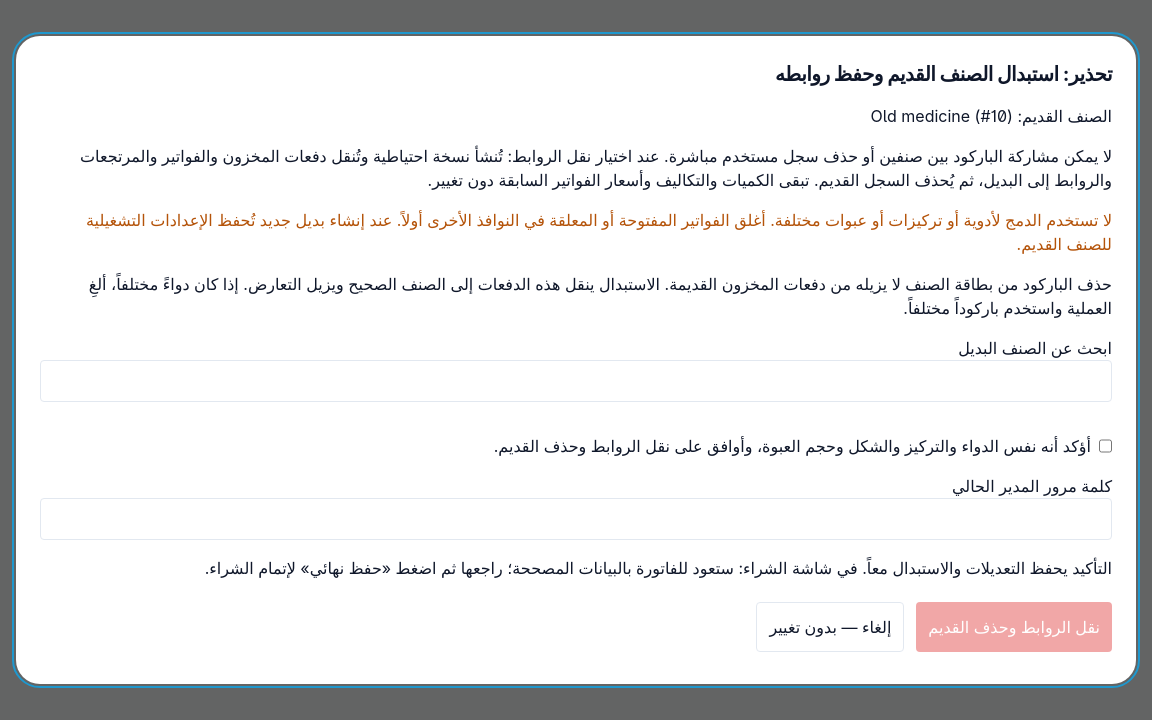
Test: clears stale replacement suggestions and reports a thrown replacement search
This screenshot has width=1152, height=720.
Type "Can" into the field labelled "ابحث عن الصنف البديل" at (576, 381), box [40,360,1112,402]
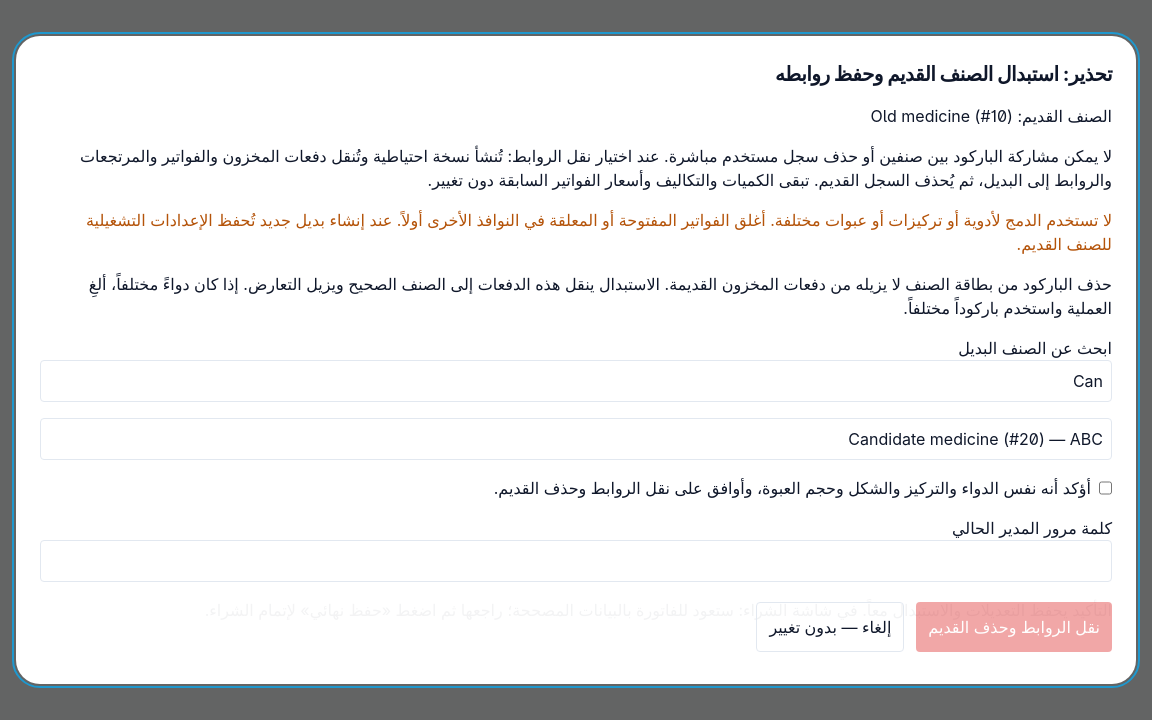
Expected: the button "Candidate medicine (#20) — ABC" is shown, [40,418,1112,460]
Replace the text in the field labelled "ابحث عن الصنف البديل" with "Other" at (576, 381), box [40,360,1112,402]
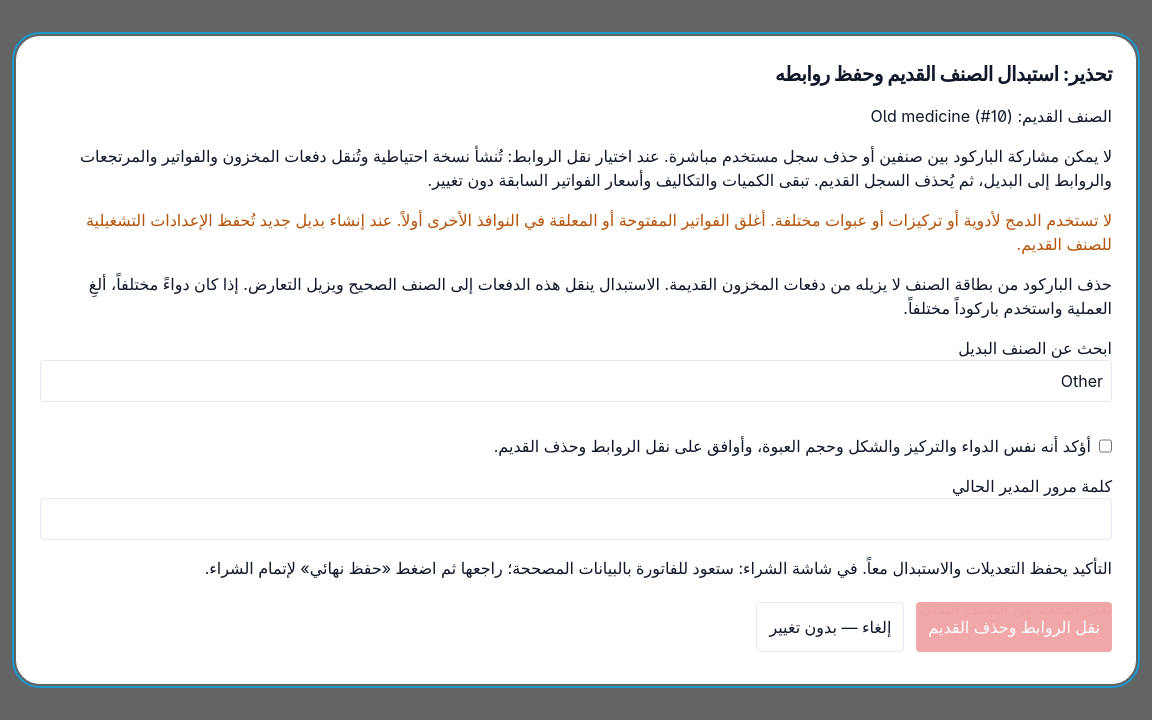
Expected: the message reads "تعذر البحث عن الصنف البديل", [920,598,1112,618]
Expected: the button "Candidate medicine" is gone
